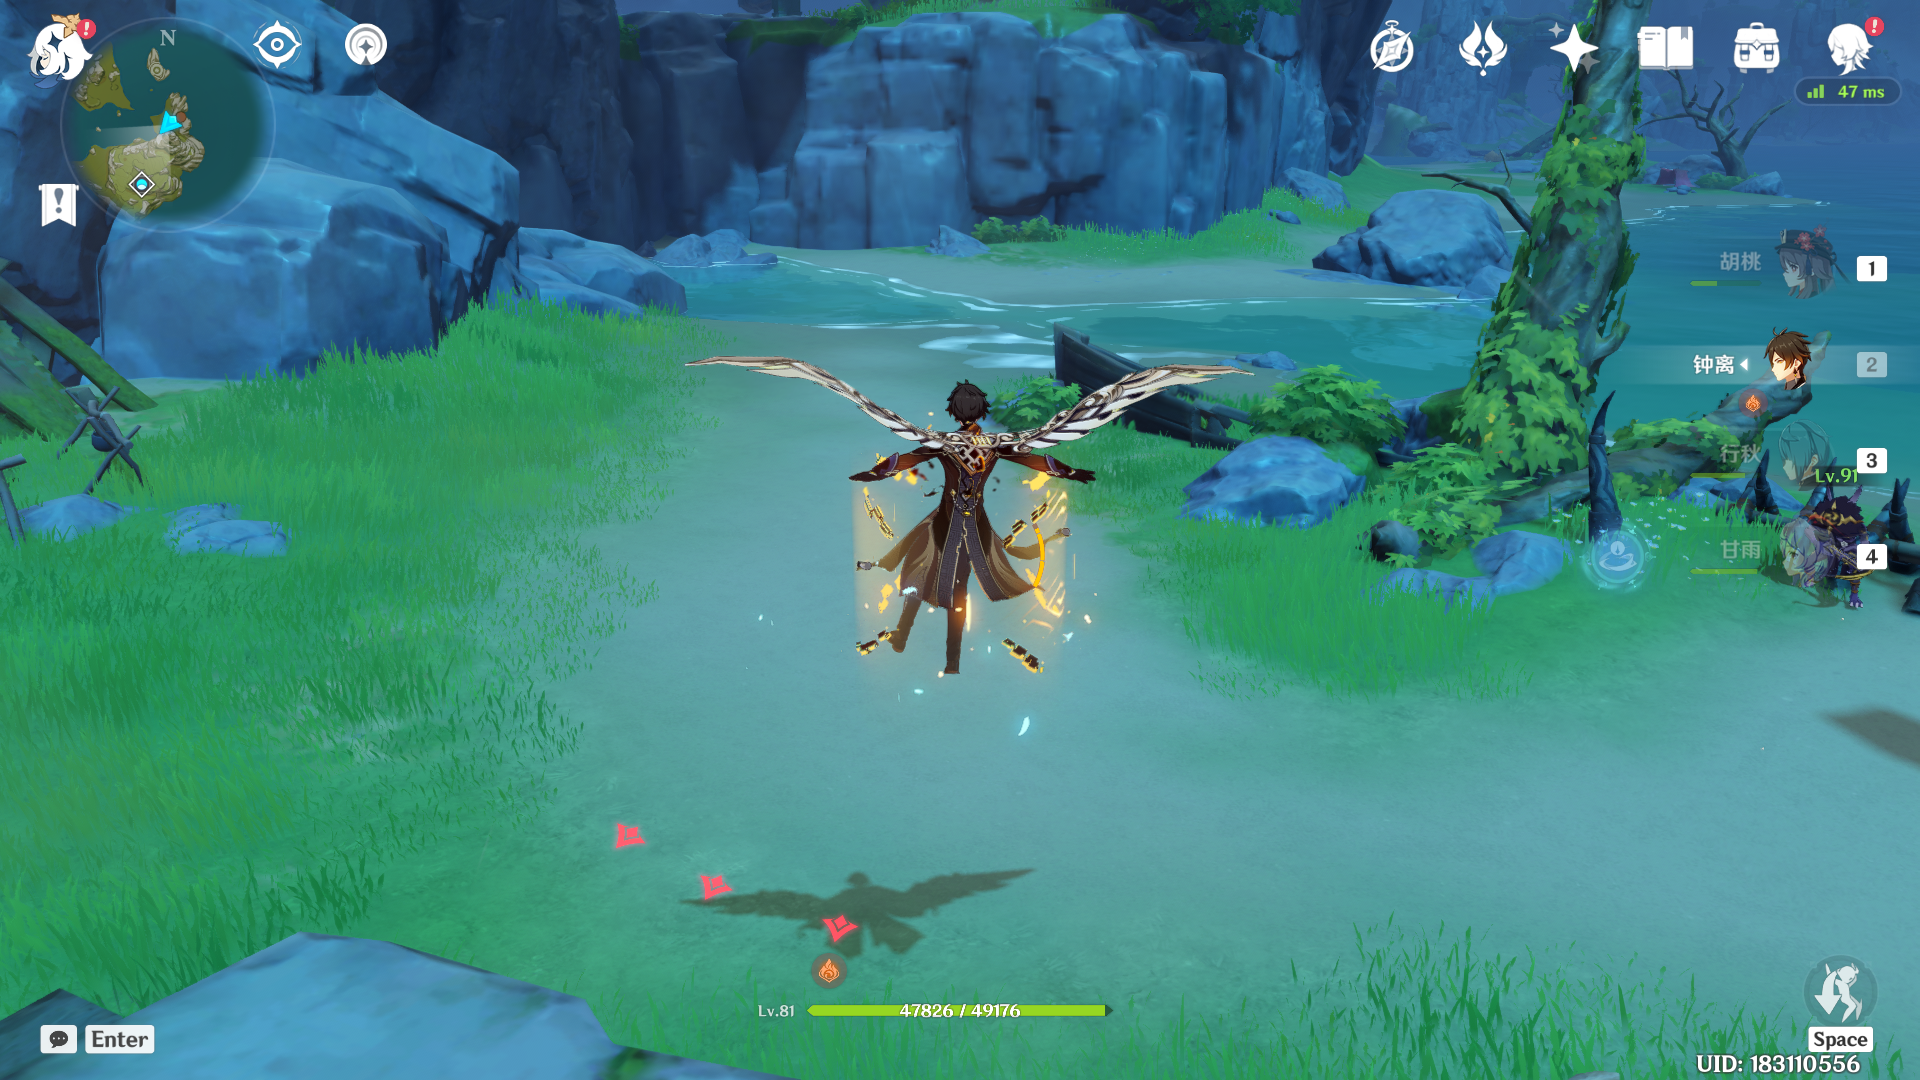character: (789, 367, 1163, 741)
